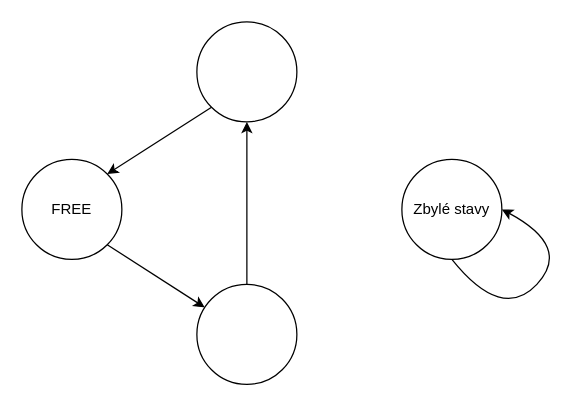
Some shapes in this 573 by 406 pixel diagram are drawn without their labels. Here are the shapes that lost their labels. From the top down, the centre of each, then its label:
(x=246, y=71): PAUSE
(x=246, y=333): DTFM
